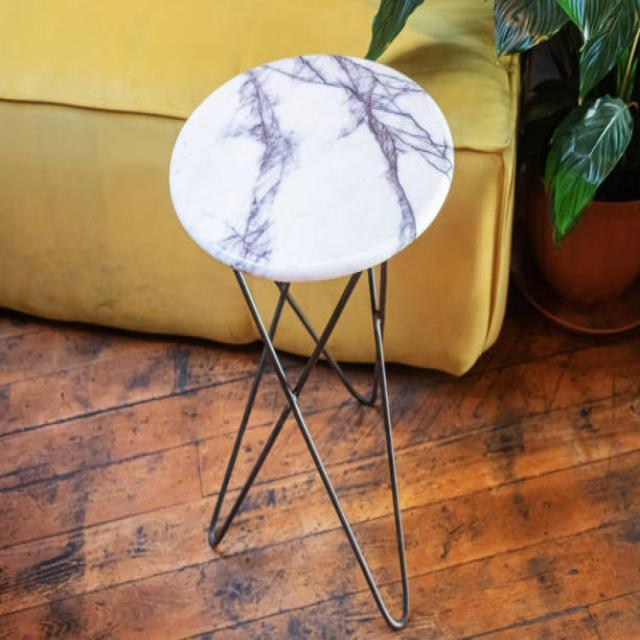table: (167, 50, 454, 629)
